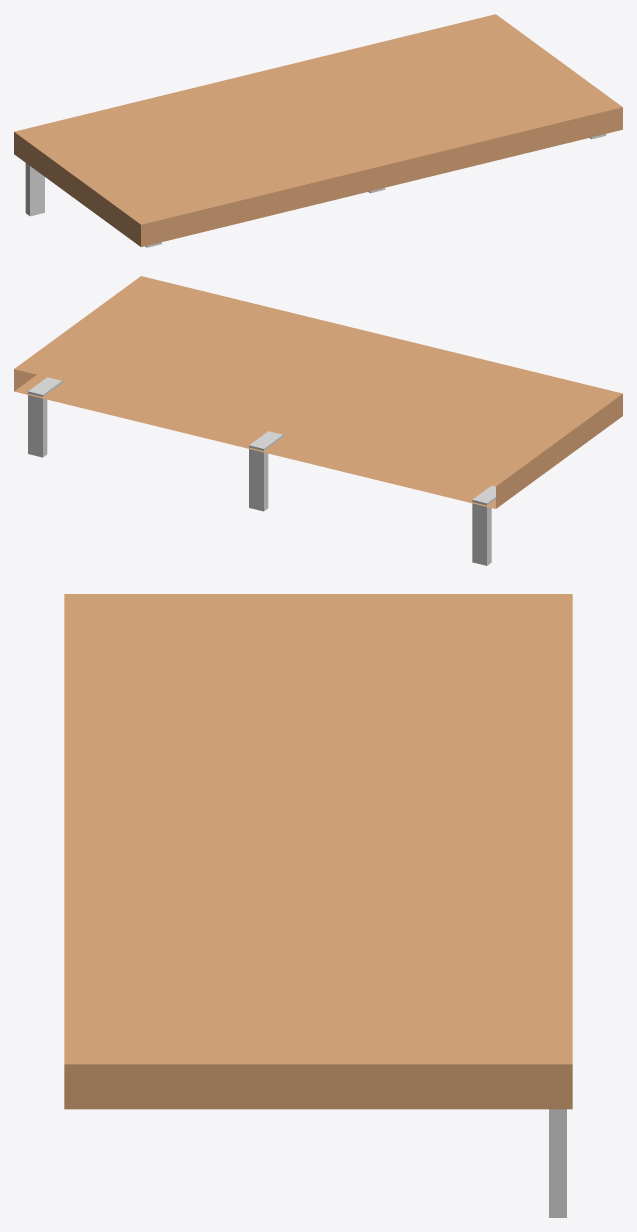
The model's file is Shelve.fbx.
3 views of the same model, one above another, from view 1: azimuth 30°, elevation 25°; view 2: azimuth 150°, elevation 25°; view 3: azimuth 270°, elevation 25° (orthographic). The views are drawn at different scales.
Visible parts, largest first — view 1: Shelf; view 2: Shelf; view 3: Shelf.
Part boxes in pixels (x1,y1,x2,y2): Shelf: (14, 14, 622, 247); Shelf: (14, 276, 622, 565); Shelf: (64, 594, 572, 1217).
Bounding box in the file's own units: 438 × 71.9 × 200.
